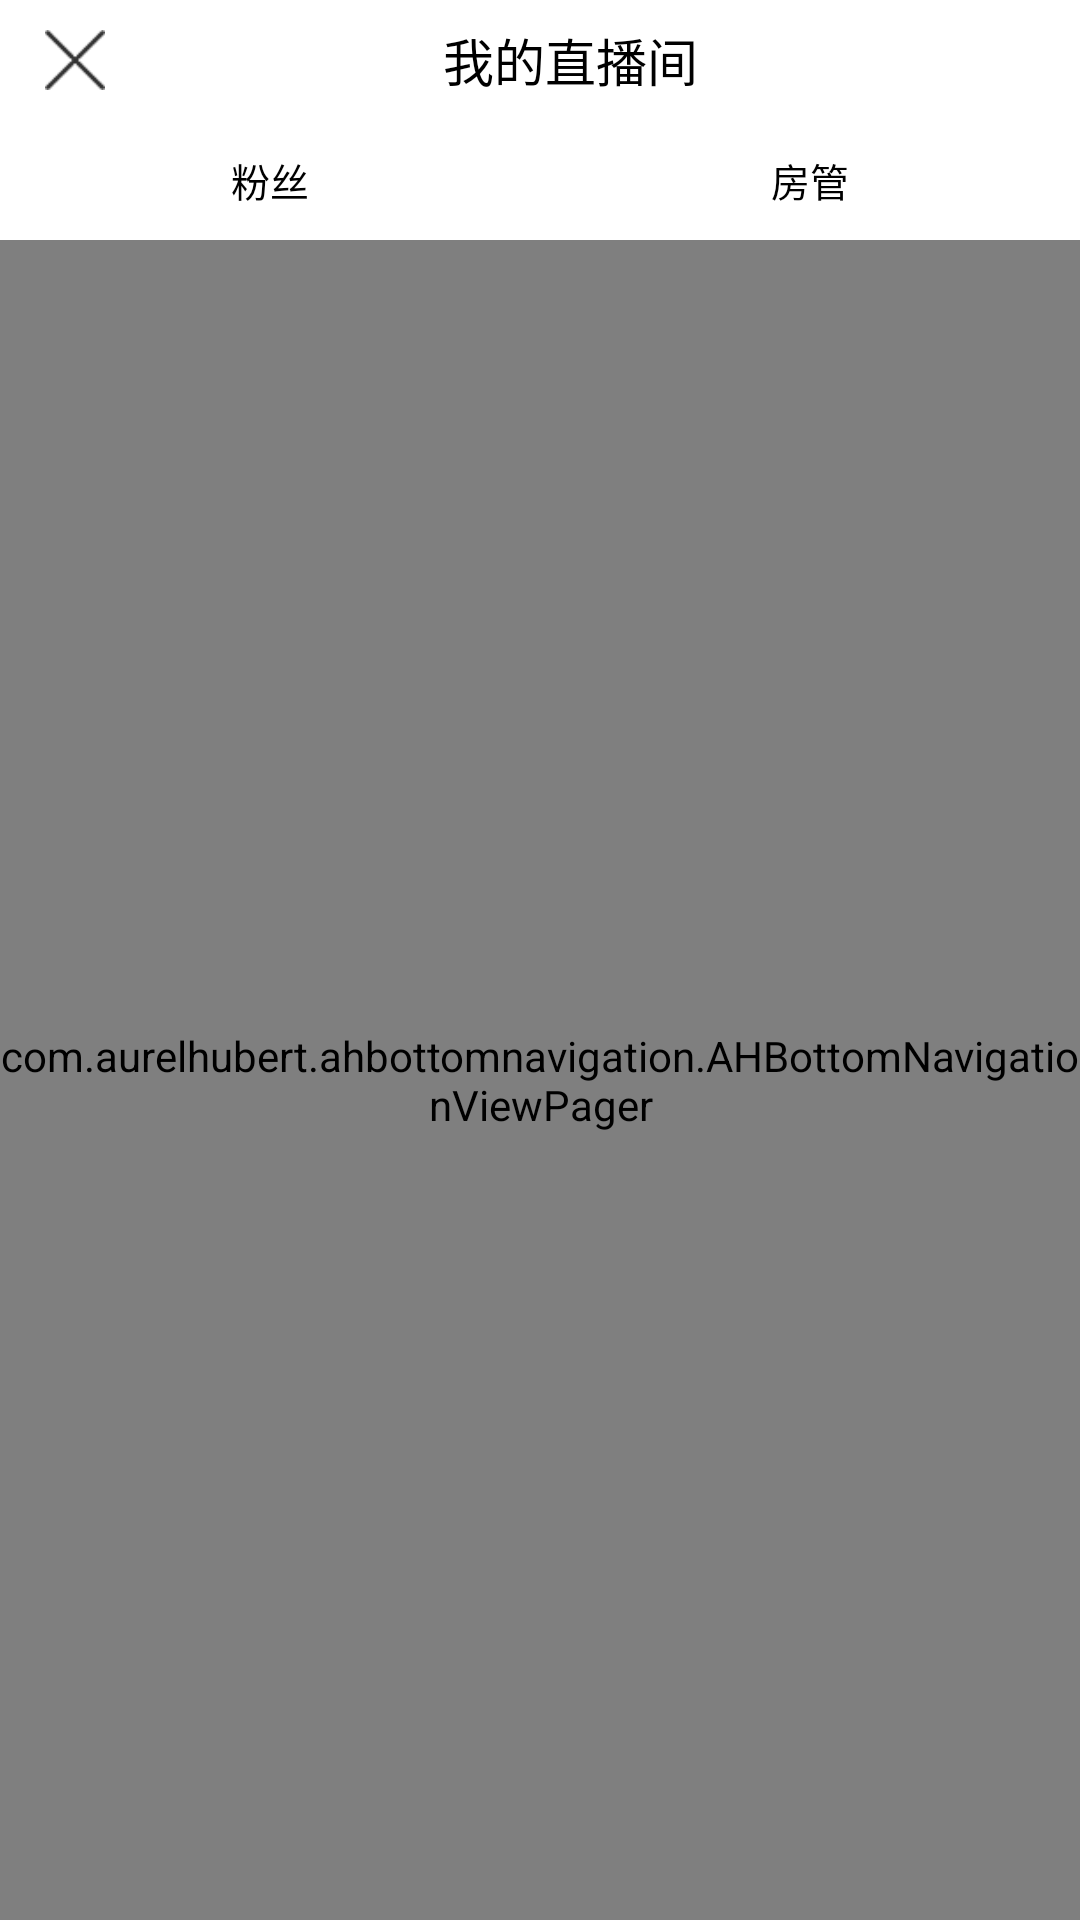

Icons on this 1080*1920 Android screen, each with the point to tap as (x,y):
finish: (75,60)
